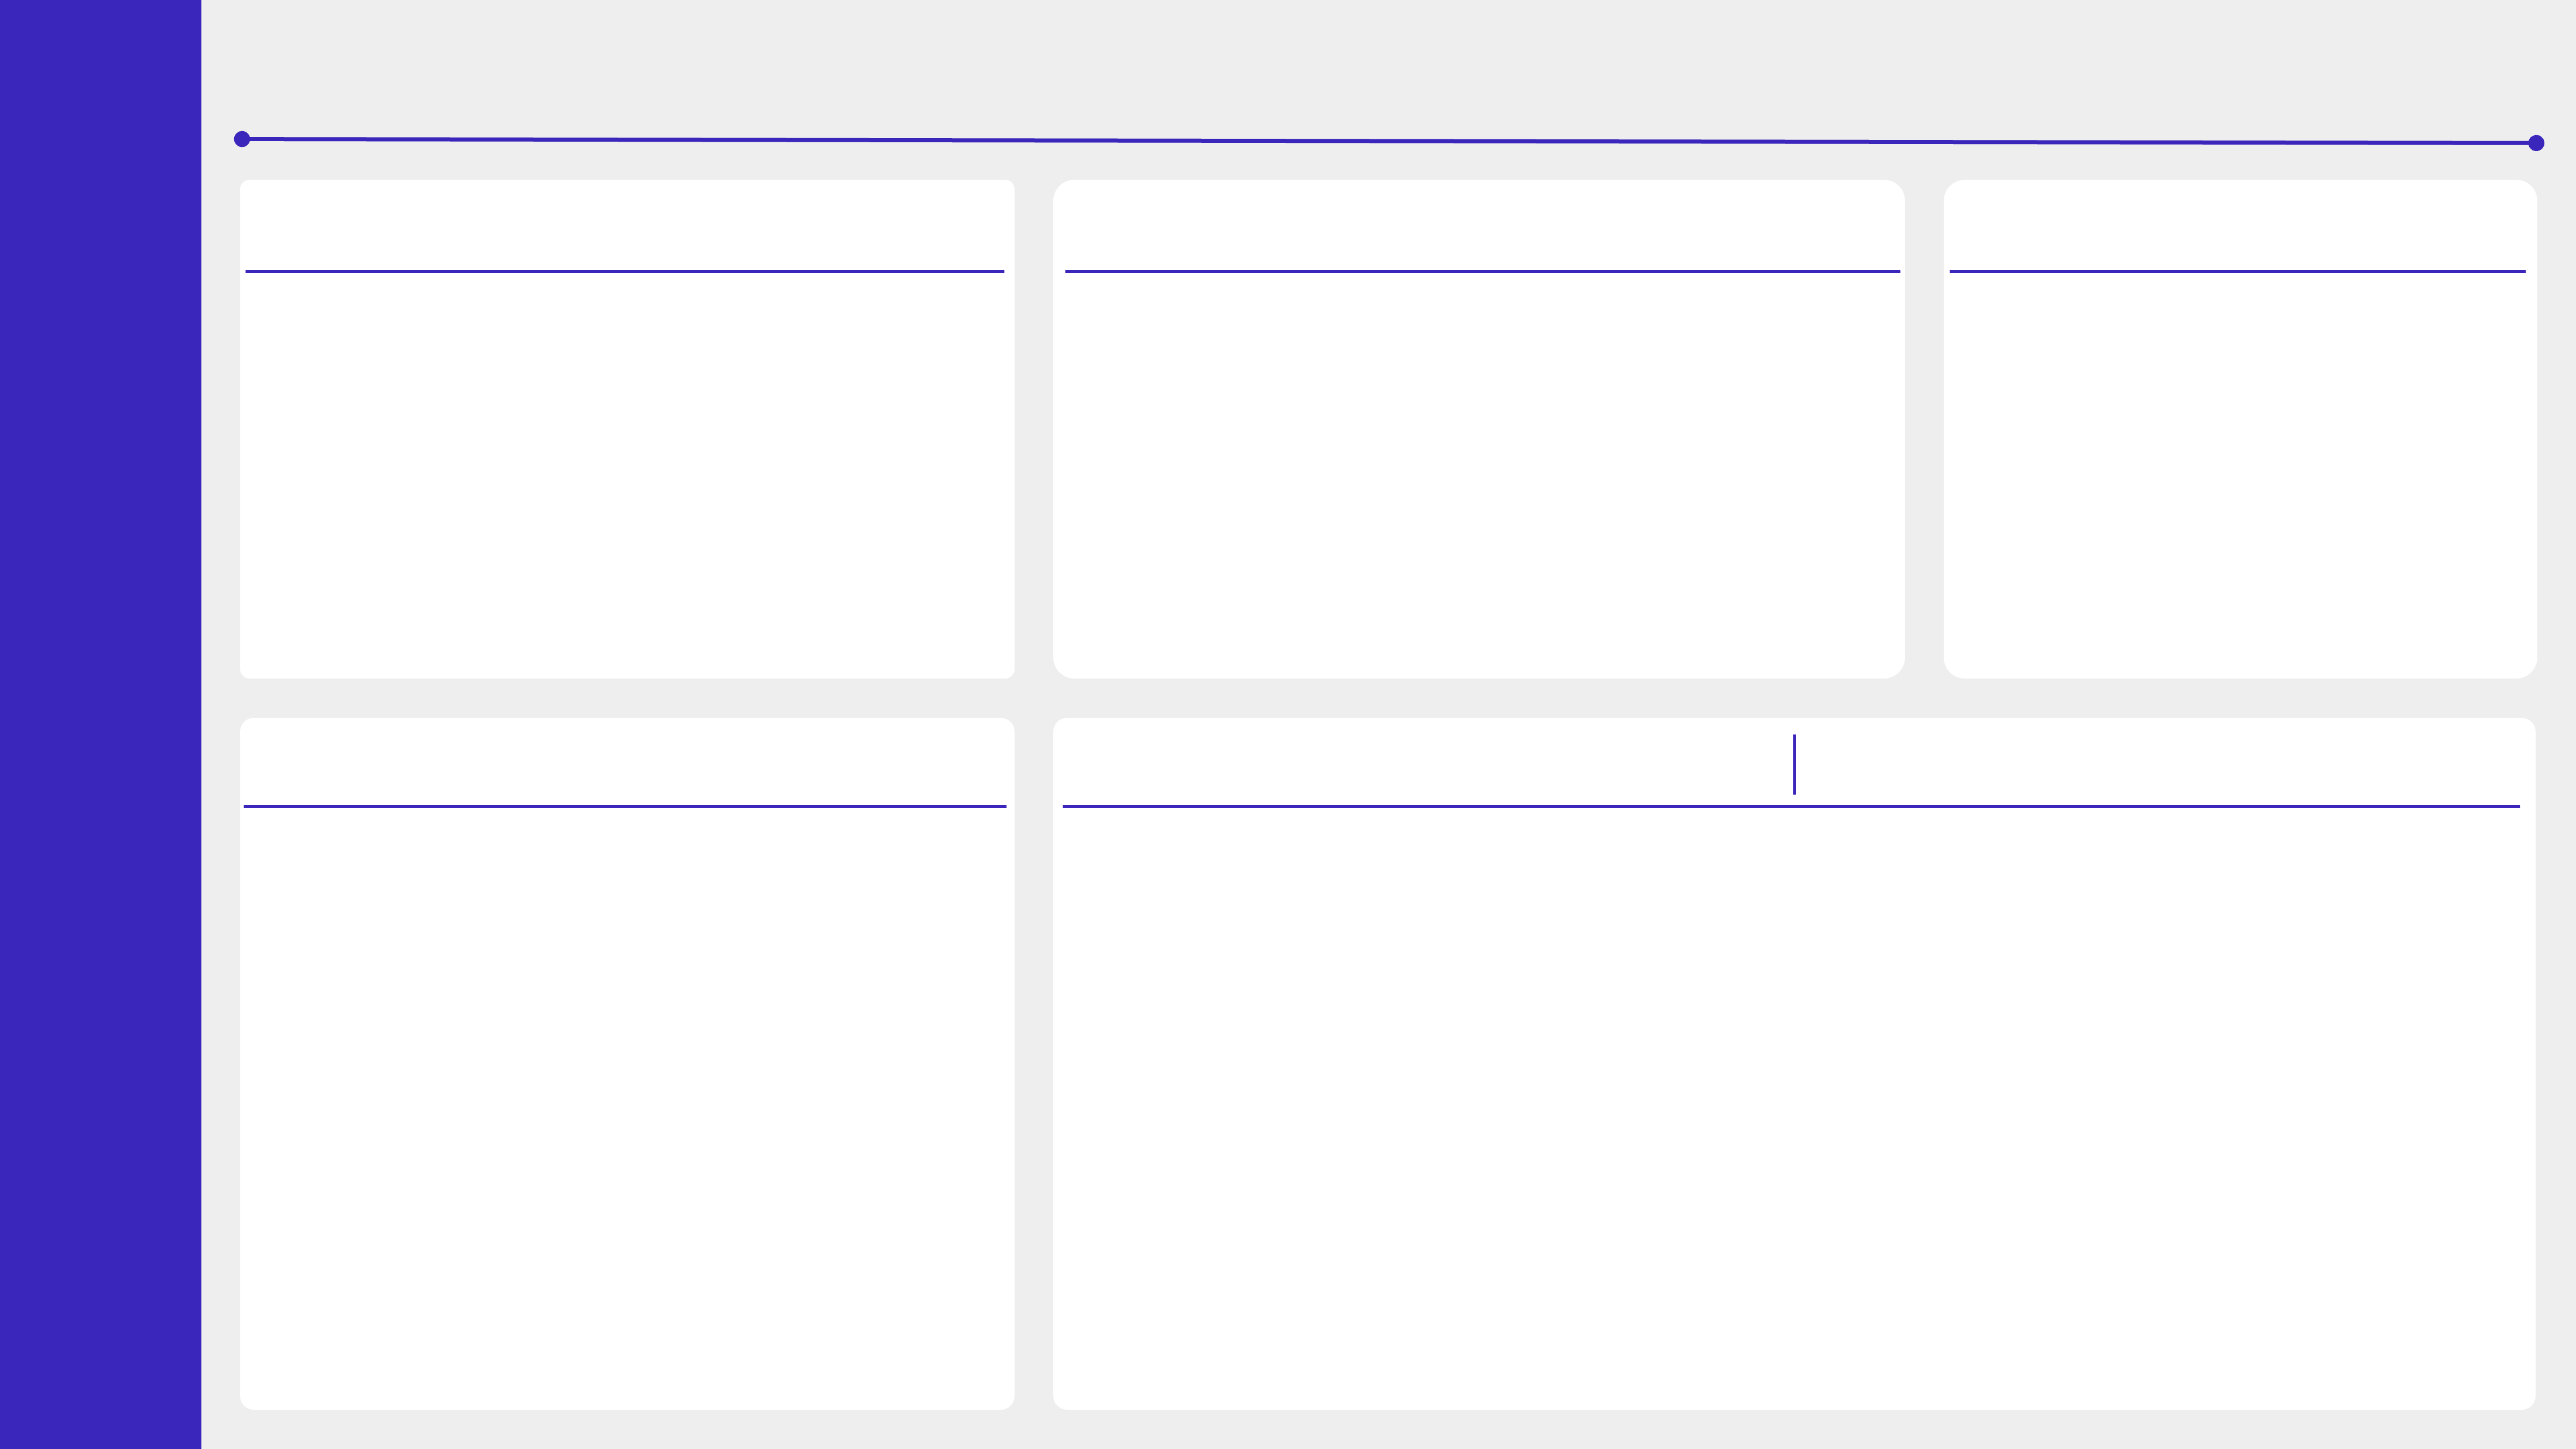

Layout of this report page (visuals, bound fields, positions):
{"tool":"powerbi","page":{"name":"Measures Testing 1","canvas":[1280,720],"ordinal":2},"visuals":[{"type":"pivotTable","fields":{"Rows":["dDate.Year Quarter"],"Values":["_MeasureTable.Closed Opportunities","_MeasureTable.% QoQ_Orders_Closed"]},"box":[680.6,0,392.4,207.1],"z":0},{"type":"card","fields":{"Values":["Sum(dAccount.Revenue)"]},"box":[813.4,288.5,392.4,144.8],"z":1000},{"type":"tableEx","fields":{"Values":["dAccount.Account","_MeasureTable.Account Rank","_MeasureTable.Total Close Value($)"]},"box":[149.8,0,466.7,720.5],"z":2000},{"type":"slicer","fields":{"Values":["dSalesTeam.Manager"]},"box":[670.5,408.4,249.1,217.2],"z":3000}]}

Visuals, with their boxes on the page's 1280x720 design canvas (x1, y1, x2, y2). These are canvas units, not pixel positions in the 2576x1449 screenshot, which may show the page scaled, cropped or inside an application window:
pivotTable - dDate.Year Quarter x _MeasureTable.Closed Opportunities: 681:0:1073:207
card - Sum(dAccount.Revenue): 813:288:1206:433
tableEx - dAccount.Account x _MeasureTable.Account Rank: 150:0:616:720
slicer - dSalesTeam.Manager: 670:408:920:626
